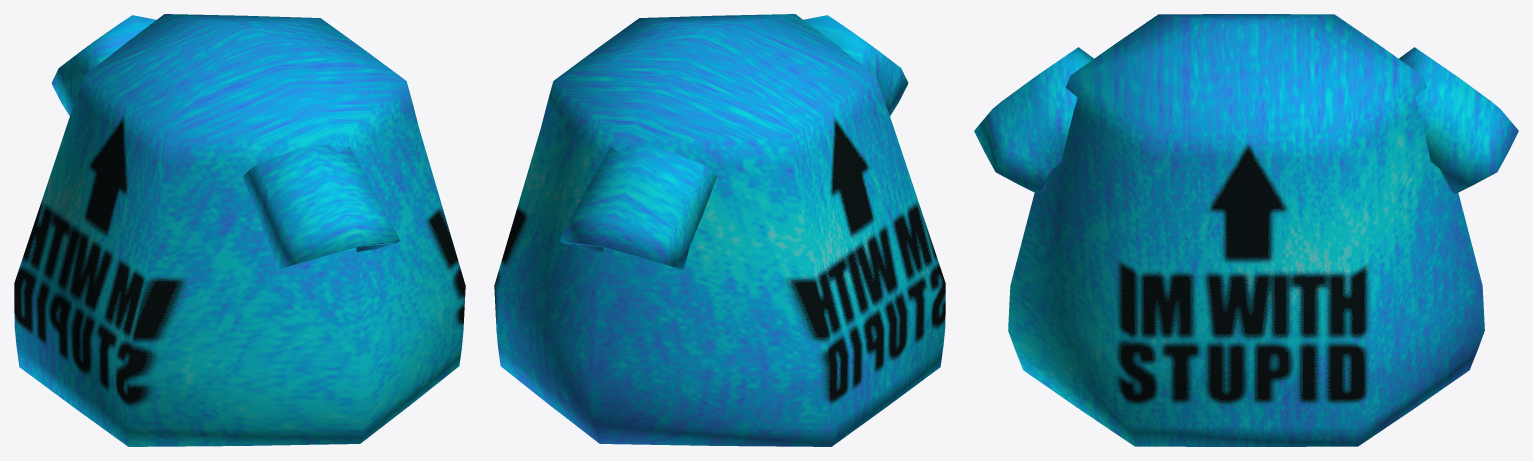
The model's file is Stupid.glb.
3 renders of one model, left to right at view 1: azimuth 30°, elevation 25°; view 2: azimuth 150°, elevation 25°; view 3: azimuth 270°, elevation 25°, orthographic. The views are drawn at different scales.
Parts seen in each view (by area): view 1: Stupid; view 2: Stupid; view 3: Stupid.
Part boxes in pixels (x1=…): Stupid: x1=14, y1=14, x2=465, y2=446; Stupid: x1=494, y1=14, x2=945, y2=446; Stupid: x1=974, y1=14, x2=1518, y2=446.
Bounding box in the file's own units: 1.48 × 1.5 × 2.03.
1 material, 1 textured.
